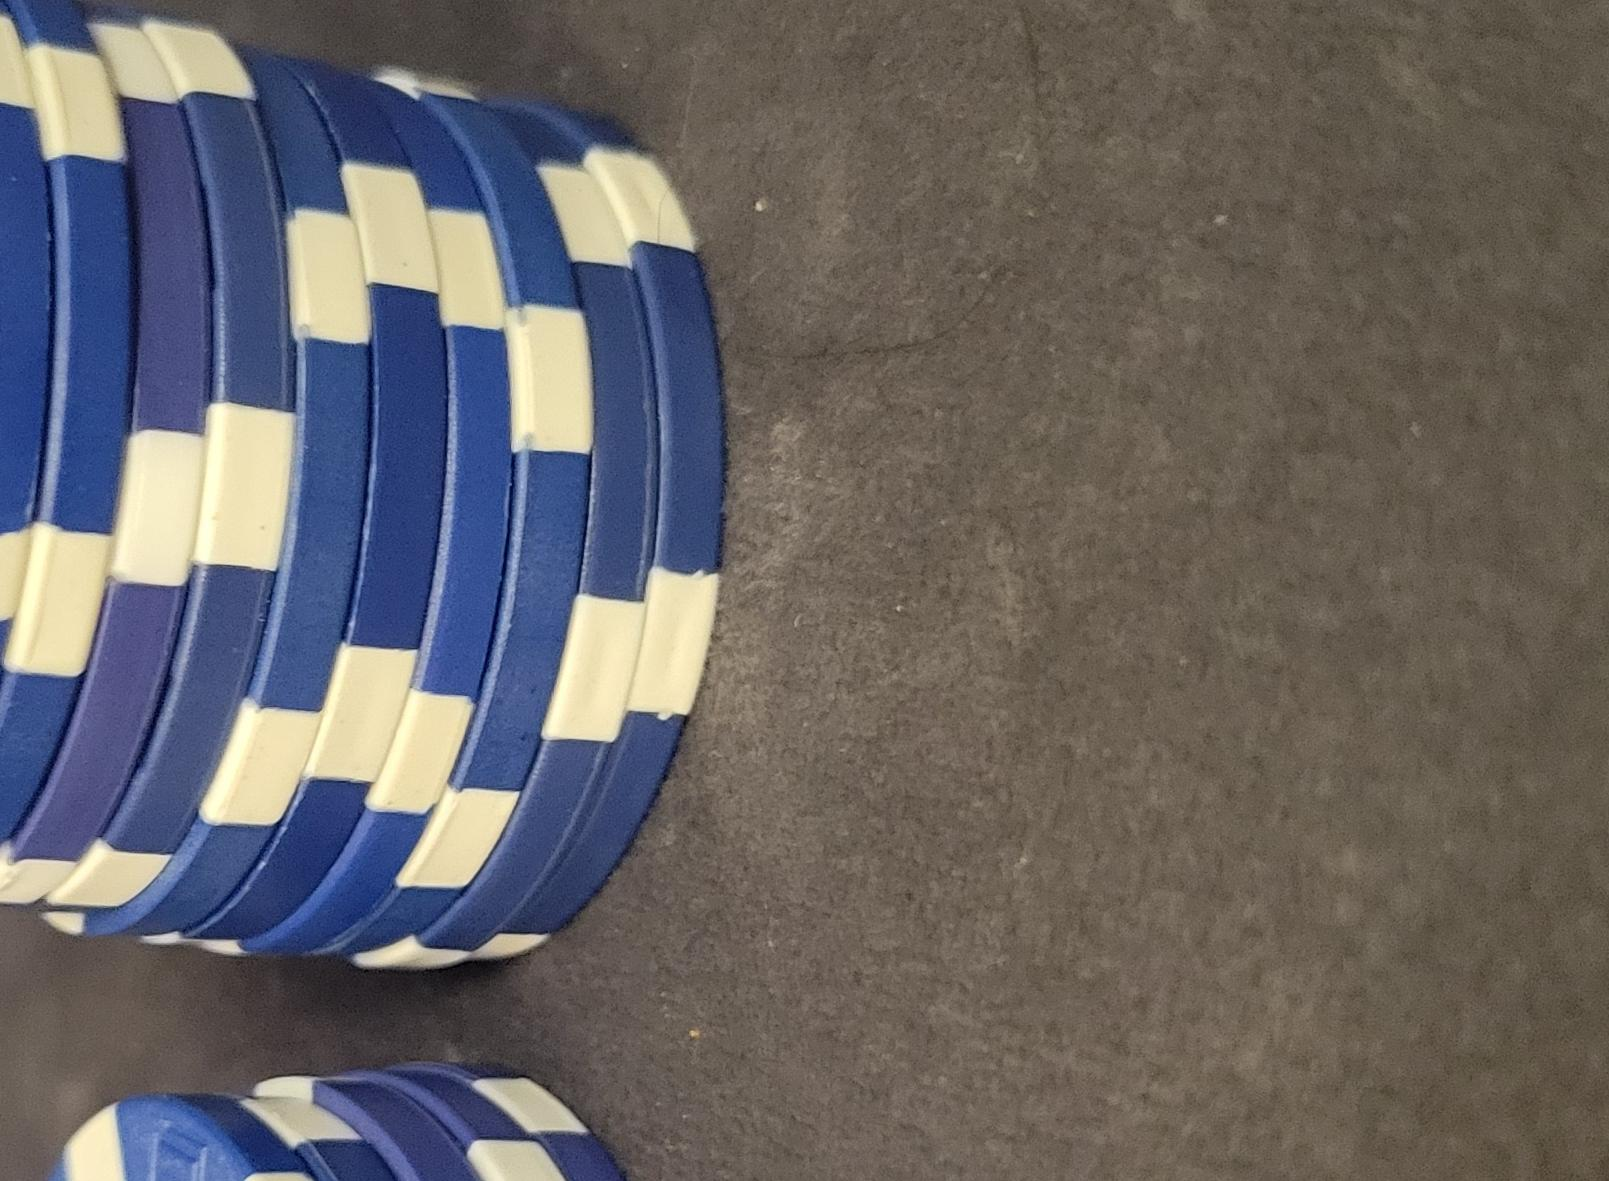Chip: (1, 237, 777, 1181)
